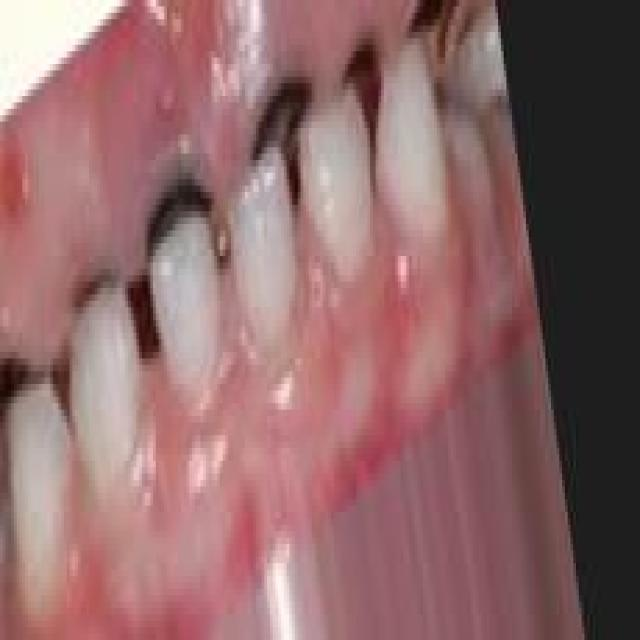caries: (248, 59, 323, 191), (141, 161, 214, 284), (336, 18, 387, 134), (395, 0, 469, 79), (0, 326, 45, 448), (60, 251, 114, 328)
